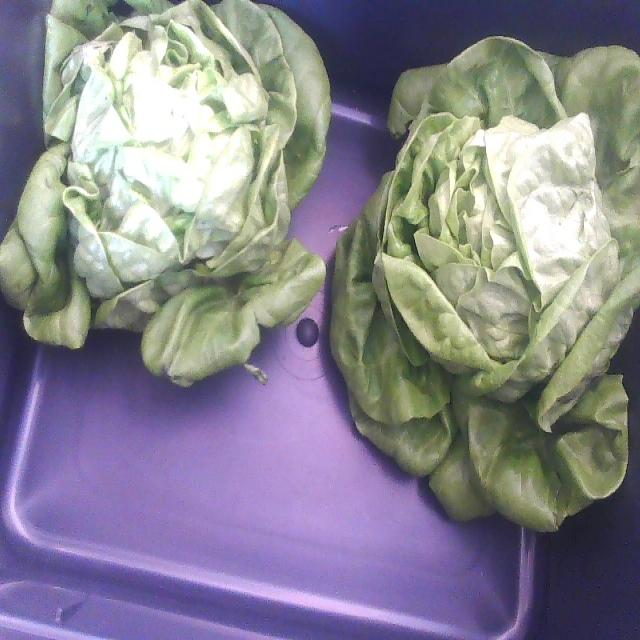Lettuce-plant: (330, 37, 639, 529), (0, 0, 329, 384)
